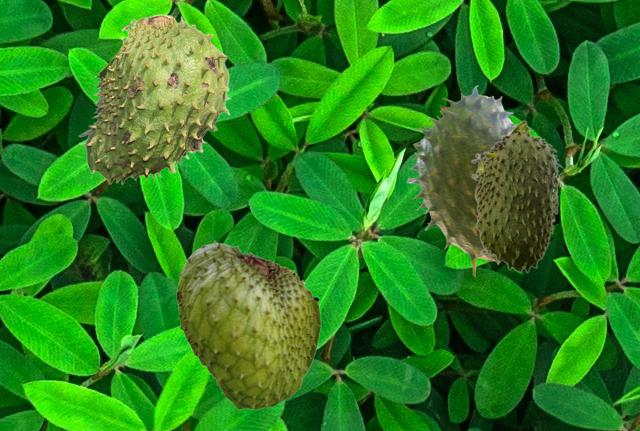guyabano: (78, 14, 230, 184), (176, 239, 320, 409), (407, 85, 516, 276), (471, 119, 562, 272)
